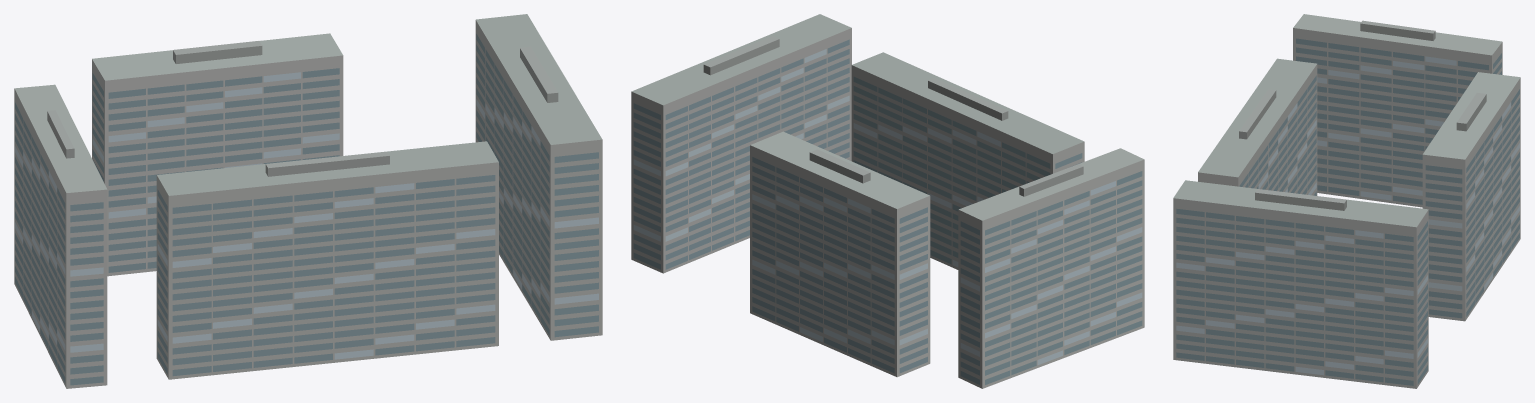
Rendered from apt-a15606003.glb.
3 views of the same model, side by side, from view 1: azimuth 30°, elevation 25°; view 2: azimuth 150°, elevation 25°; view 3: azimuth 270°, elevation 25° (orthographic). The views are drawn at different scales.
Visible parts, largest first — view 1: apt-a15606003; view 2: apt-a15606003; view 3: apt-a15606003.
Part boxes in pixels (x1,y1,x2,y2): apt-a15606003: [14, 14, 602, 388]; apt-a15606003: [631, 14, 1144, 388]; apt-a15606003: [1173, 14, 1520, 388].
Size of the model in its own units: 132 by 49 by 91.16.
